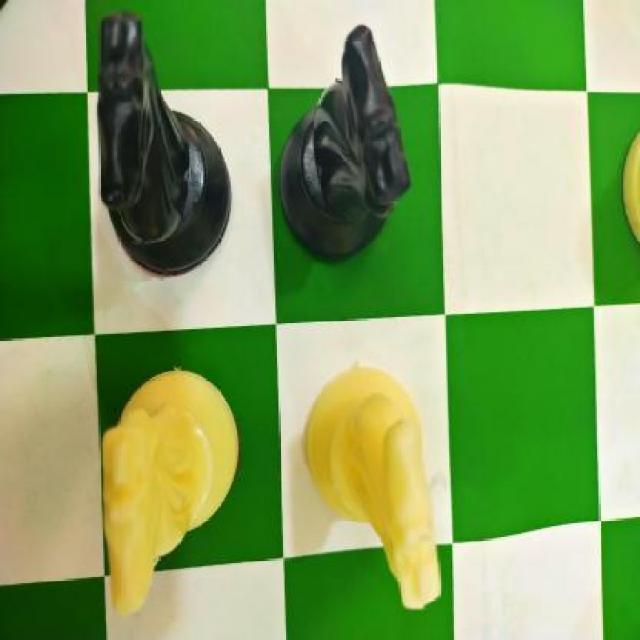black-knight: (96, 9, 231, 276), (280, 25, 411, 262)
white-knight: (99, 370, 242, 616), (301, 363, 443, 607)
